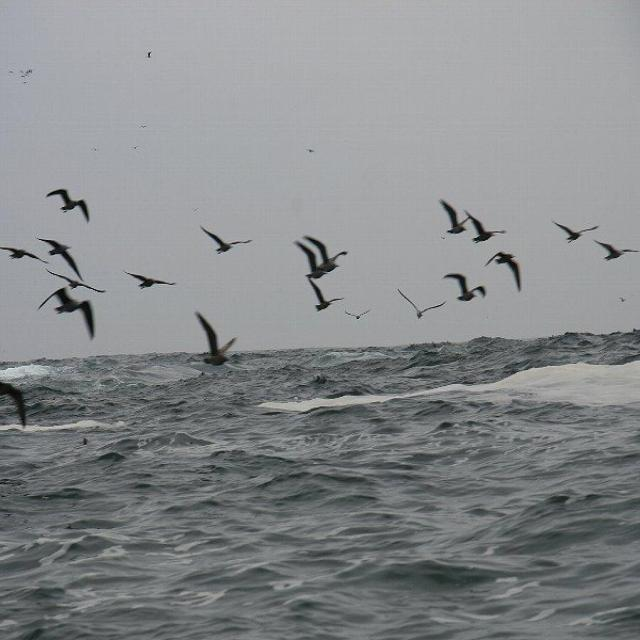bird: (38, 287, 105, 339), (194, 312, 241, 364), (296, 238, 348, 280), (32, 236, 84, 273), (45, 187, 92, 227), (461, 208, 505, 249), (397, 288, 447, 321), (200, 227, 252, 257), (487, 249, 523, 292), (440, 273, 488, 304), (590, 235, 637, 265), (437, 200, 474, 238), (1, 383, 31, 426), (554, 218, 601, 243), (306, 280, 341, 313), (126, 269, 178, 291), (0, 242, 42, 268), (9, 64, 37, 89), (344, 308, 372, 322), (612, 293, 628, 305), (144, 49, 153, 62), (303, 146, 316, 154), (139, 123, 148, 129), (130, 145, 139, 151), (91, 146, 98, 153)
